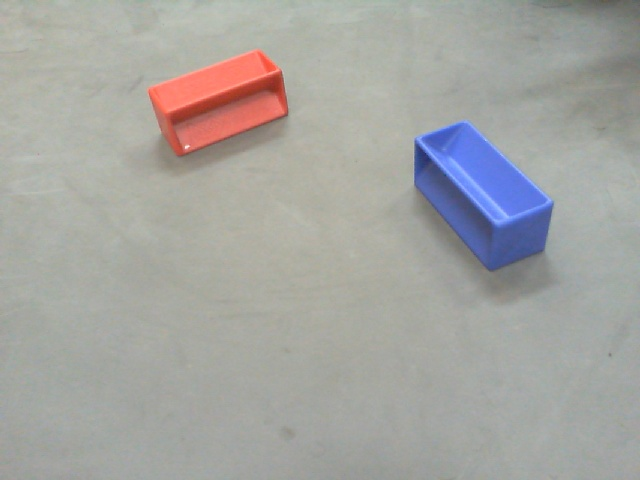BlueSample: (411, 121, 551, 272)
RedSample: (148, 48, 292, 156)
